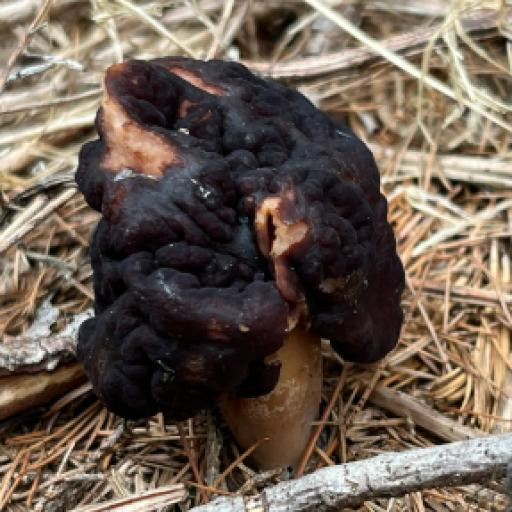mushroom: (73, 47, 411, 462)
